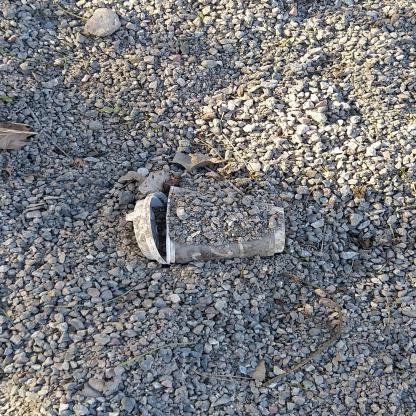plastik: (126, 186, 290, 267)
